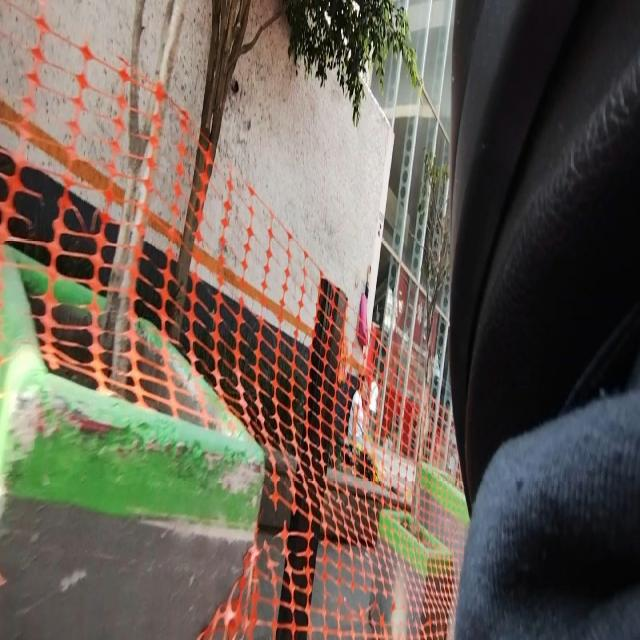adult: (348, 375, 368, 442)
